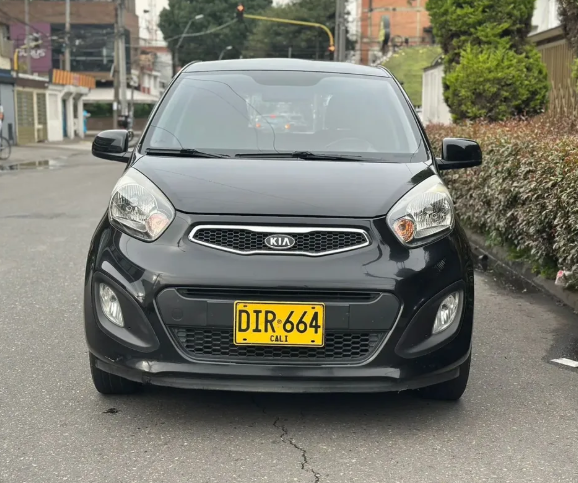placa: (234, 302, 325, 347)
